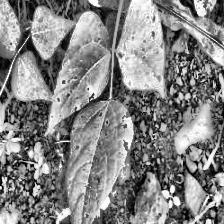ALS: (46, 11, 114, 133), (69, 98, 134, 224), (114, 0, 168, 97)
